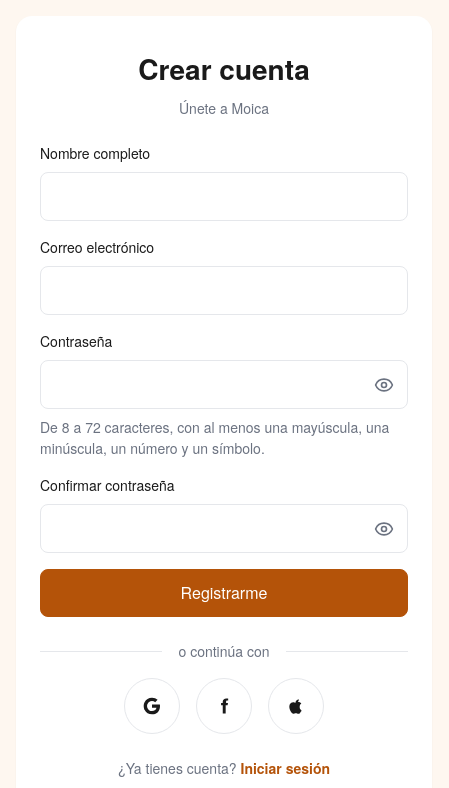
Test case: pantalla de registro › exige que las dos contraseñas coincidan
Type "Erving Miranda" into the field labelled "Nombre completo" at (224, 196), box [40,172,408,221]
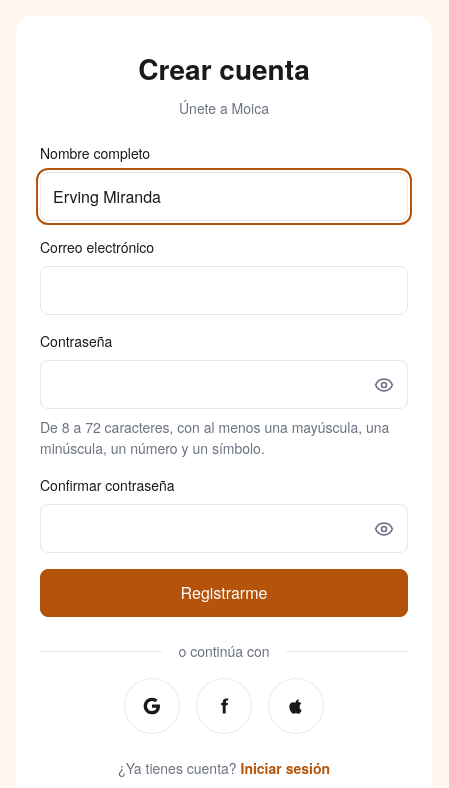
Type "erving@moica.test" into the field labelled "Correo electrónico" at (224, 290), box [40,266,408,315]
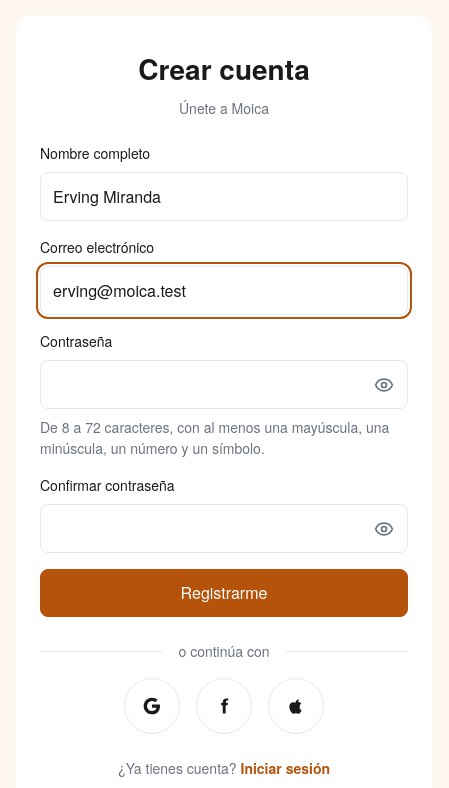
Type "Moica2026$segura" into the password field labelled "Contraseña" at (224, 384), box [40,360,408,409]
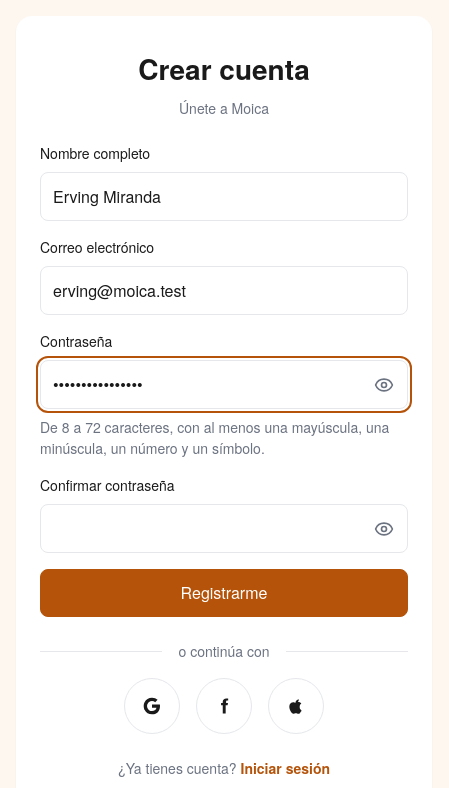
Type "Moica2026$distinta" into the password field labelled "Confirmar contraseña" at (224, 528), box [40,504,408,553]
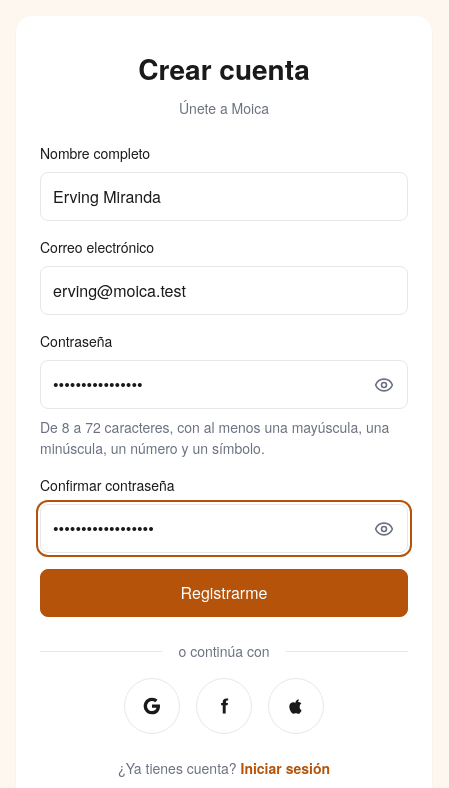
Click the button "Registrarme" at (224, 593), box [40,569,408,617]
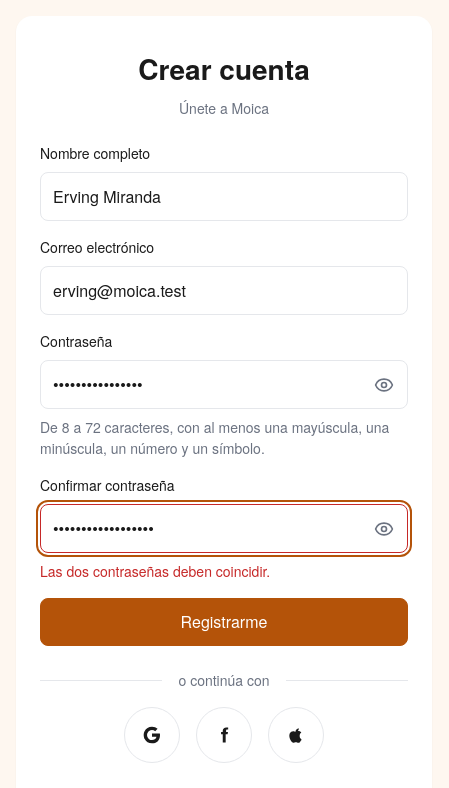
Check: the text "Las dos contraseñas deben coincidir." is shown, box [40,561,270,581]
